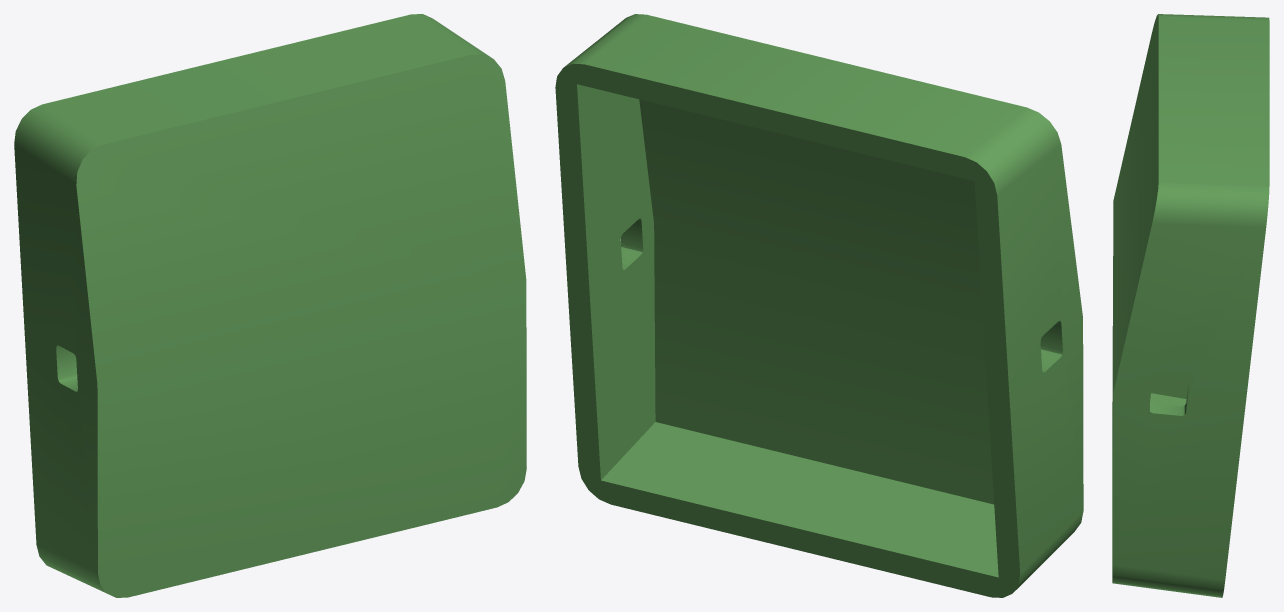
The model's file is LightSwitches01.fbx.
3 views of the same model, side by side, from view 1: azimuth 30°, elevation 25°; view 2: azimuth 150°, elevation 25°; view 3: azimuth 270°, elevation 25° (orthographic). The views are drawn at different scales.
Visible parts, largest first — view 1: LightSwitches01; view 2: LightSwitches01; view 3: LightSwitches01.
Part boxes in pixels (bbox=[...]): LightSwitches01: bbox=[14, 14, 526, 597]; LightSwitches01: bbox=[555, 14, 1083, 597]; LightSwitches01: bbox=[1112, 14, 1269, 597].
Size of the model in its own units: 5.82 by 5.83 by 2.01.
